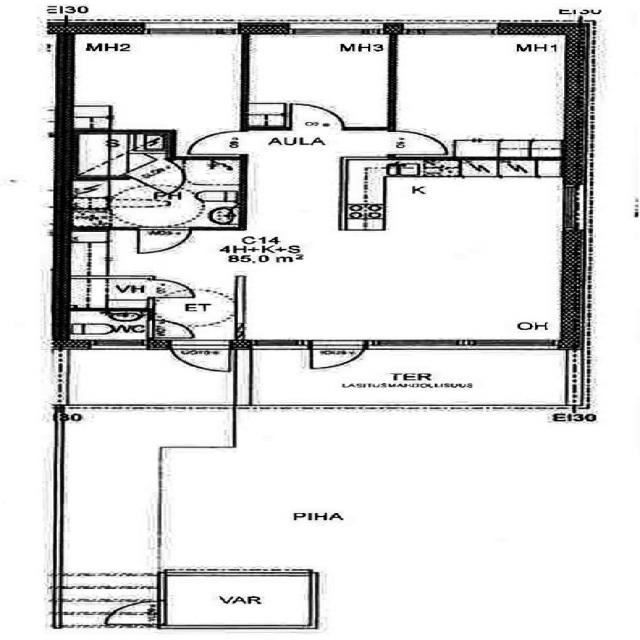door: (125, 159, 203, 193), (170, 339, 230, 376), (310, 339, 365, 374), (389, 132, 446, 155), (107, 601, 166, 623), (138, 227, 189, 252), (292, 105, 341, 130), (191, 132, 248, 153), (148, 320, 194, 337), (148, 280, 192, 296)
